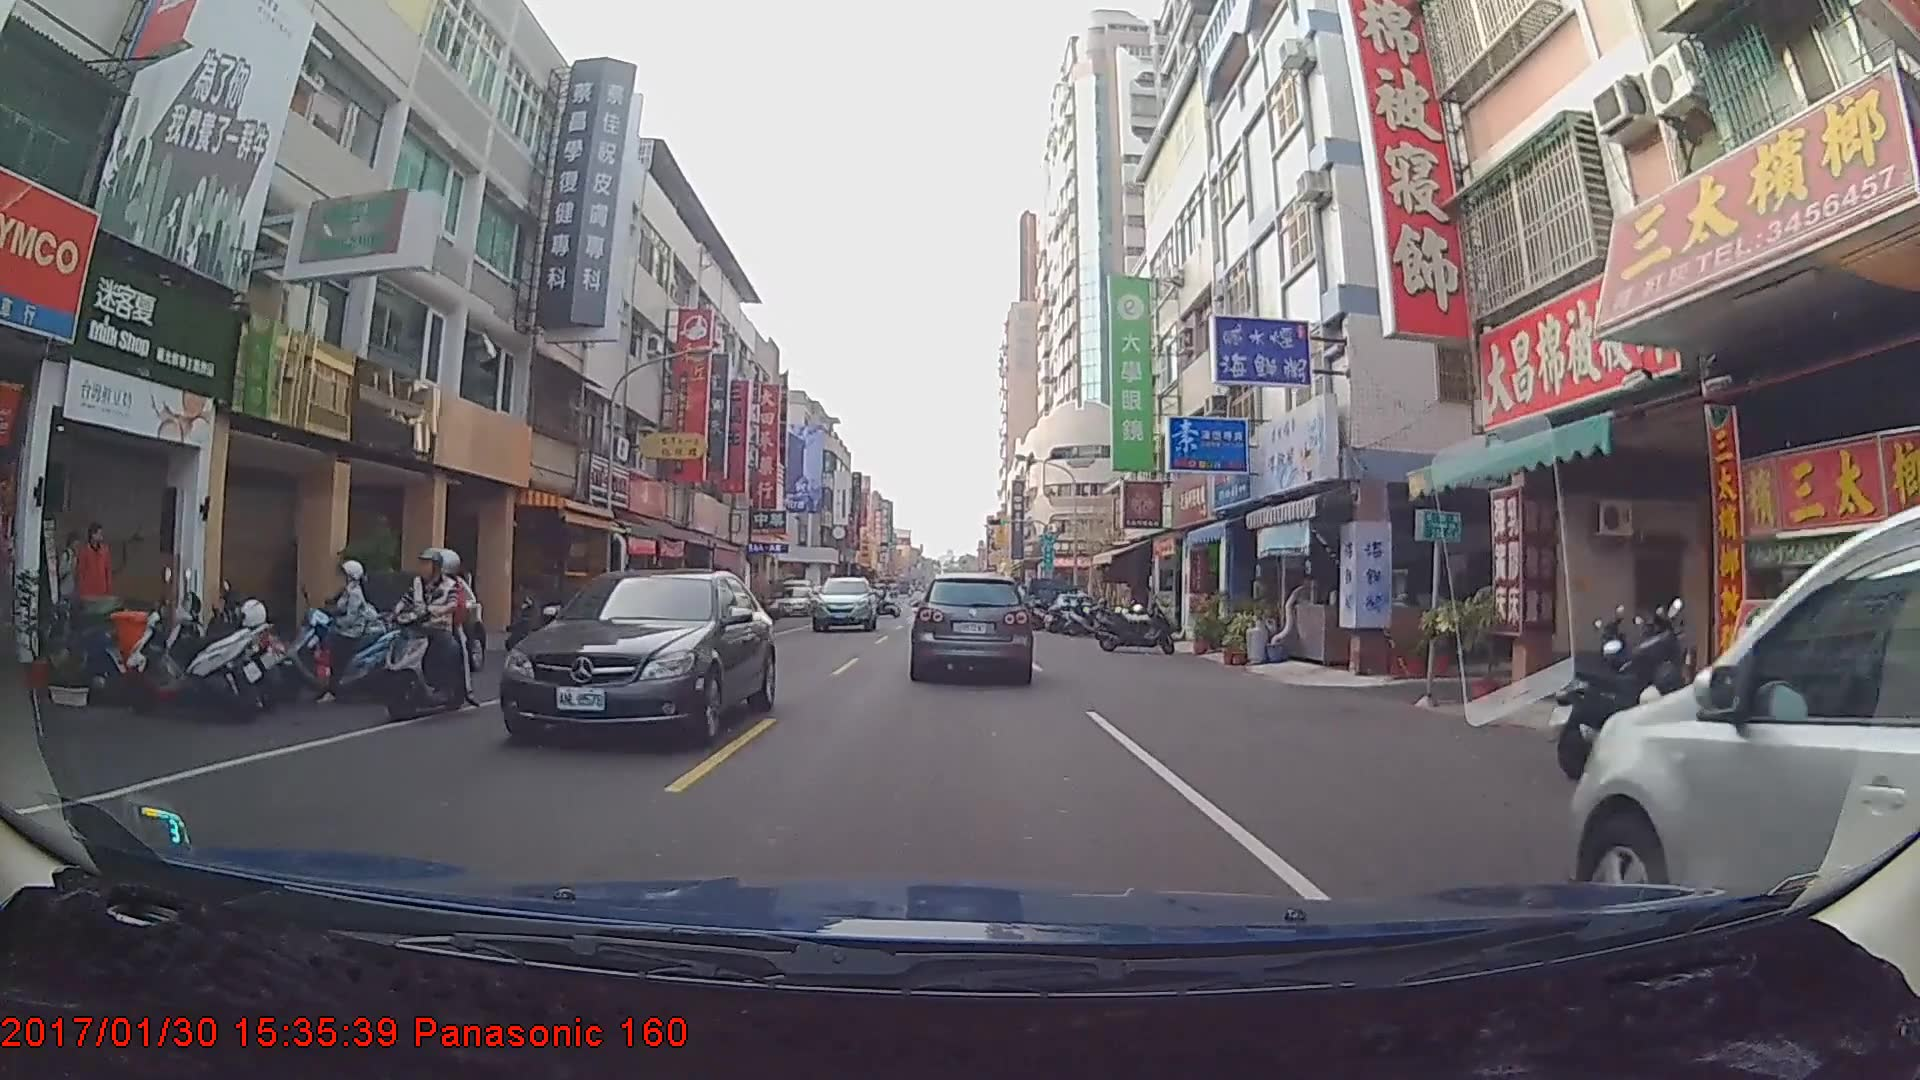pedestrian: (74, 513, 121, 646), (52, 518, 90, 635)
rider: (362, 543, 484, 726)
vehicle: (1573, 484, 1918, 1010), (498, 566, 776, 750), (911, 573, 1031, 683), (810, 574, 877, 630), (1024, 574, 1074, 620)
